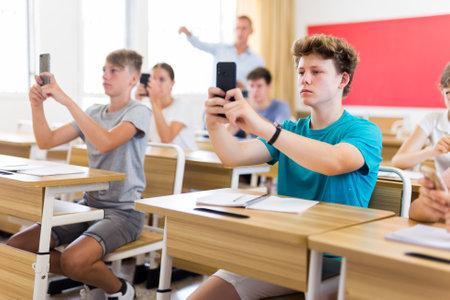phone: (204, 38, 377, 205), (28, 49, 147, 170), (138, 61, 194, 147), (239, 67, 288, 121)
